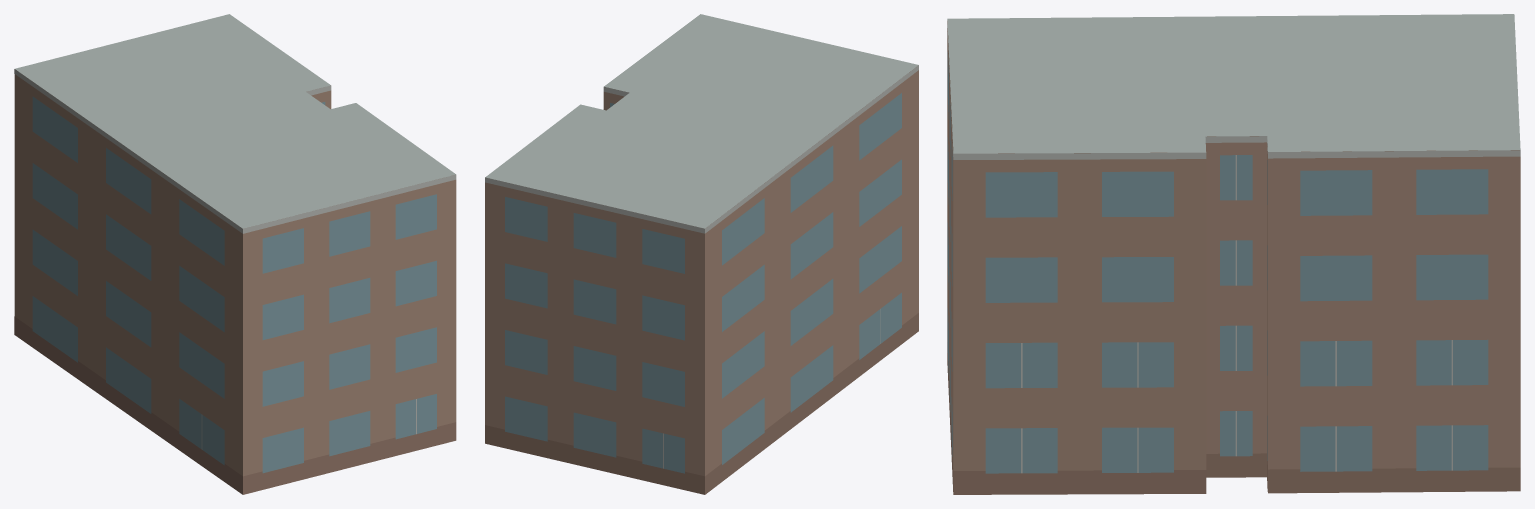
The model's file is survey-upis-32658655.glb.
3 renders of one model, left to right at view 1: azimuth 30°, elevation 25°; view 2: azimuth 150°, elevation 25°; view 3: azimuth 270°, elevation 25°, orthographic. The views are drawn at different scales.
Parts seen in each view (by area): view 1: survey-upis-32658655.tmp; view 2: survey-upis-32658655.tmp; view 3: survey-upis-32658655.tmp.
Part boxes in pixels (box(x1,y1,x2,y2)): survey-upis-32658655.tmp: box(14, 14, 456, 494); survey-upis-32658655.tmp: box(485, 14, 918, 494); survey-upis-32658655.tmp: box(947, 14, 1520, 494).
Bounding box in the file's own units: 11.29 × 12.85 × 19.57.
